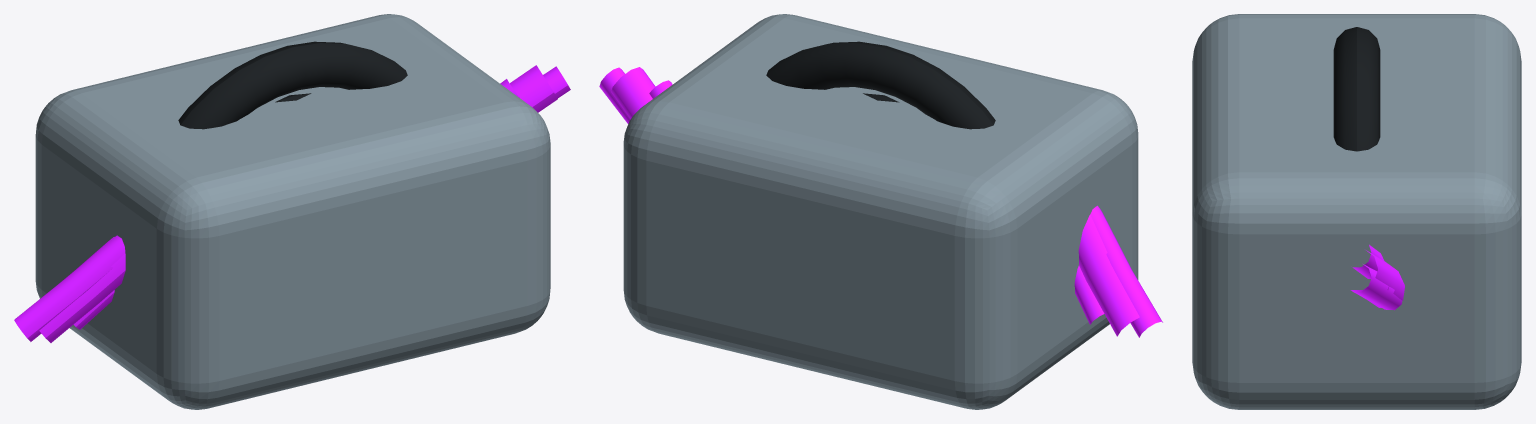
The model's file is electrical_06.glb.
3 views of the same model, side by side, from view 1: azimuth 30°, elevation 25°; view 2: azimuth 150°, elevation 25°; view 3: azimuth 270°, elevation 25° (orthographic). The views are drawn at different scales.
Visible parts, largest first — view 1: asset_mesh__electrical_0242__reference_body, asset_mesh__electrical_0241__service_element, asset_mesh__electrical_0249__current_path, asset_mesh__electrical_0248__current_path, asset_mesh__electrical_0255__current_path; view 2: asset_mesh__electrical_0242__reference_body, asset_mesh__electrical_0241__service_element, asset_mesh__electrical_0248__current_path, asset_mesh__electrical_0249__current_path, asset_mesh__electrical_0255__current_path; view 3: asset_mesh__electrical_0242__reference_body, asset_mesh__electrical_0241__service_element, asset_mesh__electrical_0249__current_path, asset_mesh__electrical_0248__current_path, asset_mesh__electrical_0255__current_path.
Part boxes in pixels (box(x1,y1,x2,y2)): asset_mesh__electrical_0242__reference_body: box(35, 14, 550, 409); asset_mesh__electrical_0241__service_element: box(178, 41, 407, 129); asset_mesh__electrical_0249__current_path: box(14, 66, 570, 341); asset_mesh__electrical_0248__current_path: box(39, 65, 557, 342); asset_mesh__electrical_0255__current_path: box(73, 79, 519, 329); asset_mesh__electrical_0242__reference_body: box(623, 14, 1138, 409); asset_mesh__electrical_0241__service_element: box(766, 41, 995, 129); asset_mesh__electrical_0248__current_path: box(611, 67, 1139, 336); asset_mesh__electrical_0249__current_path: box(599, 67, 1162, 337); asset_mesh__electrical_0255__current_path: box(649, 80, 1104, 324); asset_mesh__electrical_0242__reference_body: box(1192, 14, 1521, 409); asset_mesh__electrical_0241__service_element: box(1333, 27, 1380, 151); asset_mesh__electrical_0249__current_path: box(1353, 264, 1402, 310); asset_mesh__electrical_0248__current_path: box(1350, 250, 1404, 307); asset_mesh__electrical_0255__current_path: box(1352, 244, 1384, 278).
Size of the model in its own units: 1.54 by 0.8732 by 0.7728.
